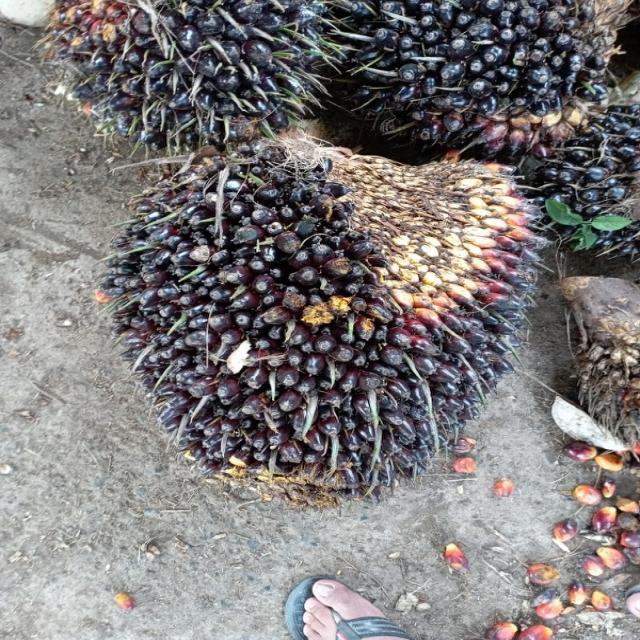fraksi 00: (81, 104, 589, 566)
